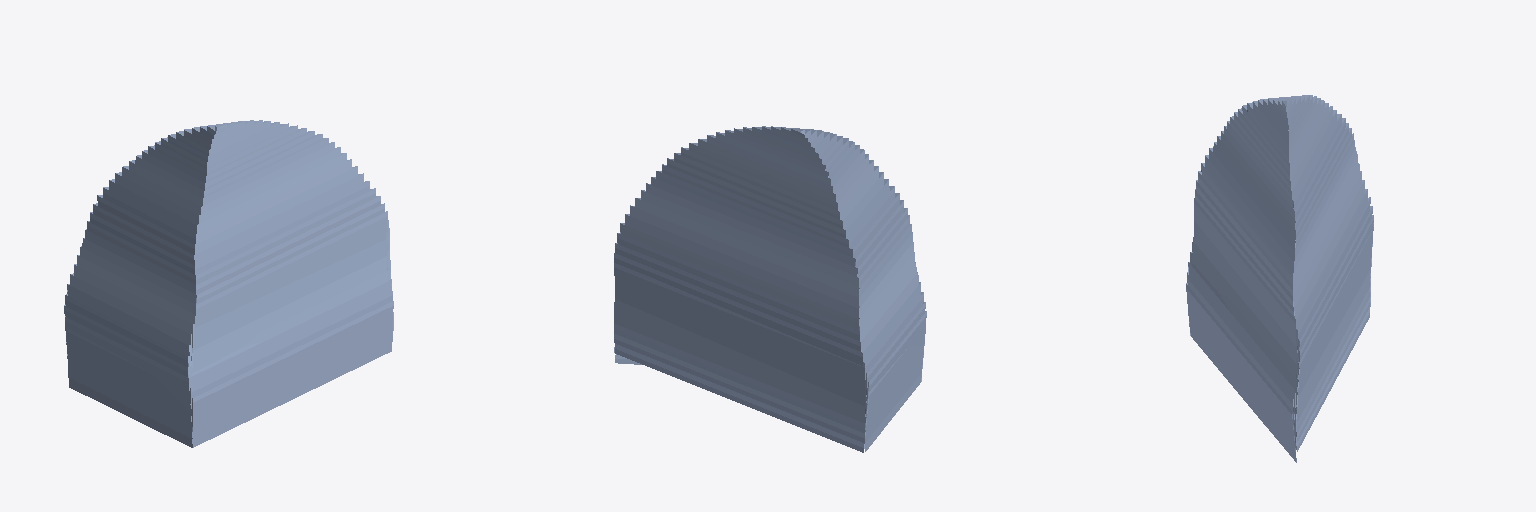
Rendered from yessir.obj.
The picture shows the model from 3 angles: view 1: azimuth 30°, elevation 25°; view 2: azimuth 150°, elevation 25°; view 3: azimuth 270°, elevation 25°; orthographic projection.
Bounding box in the file's own units: 128 × 114 × 71.31.